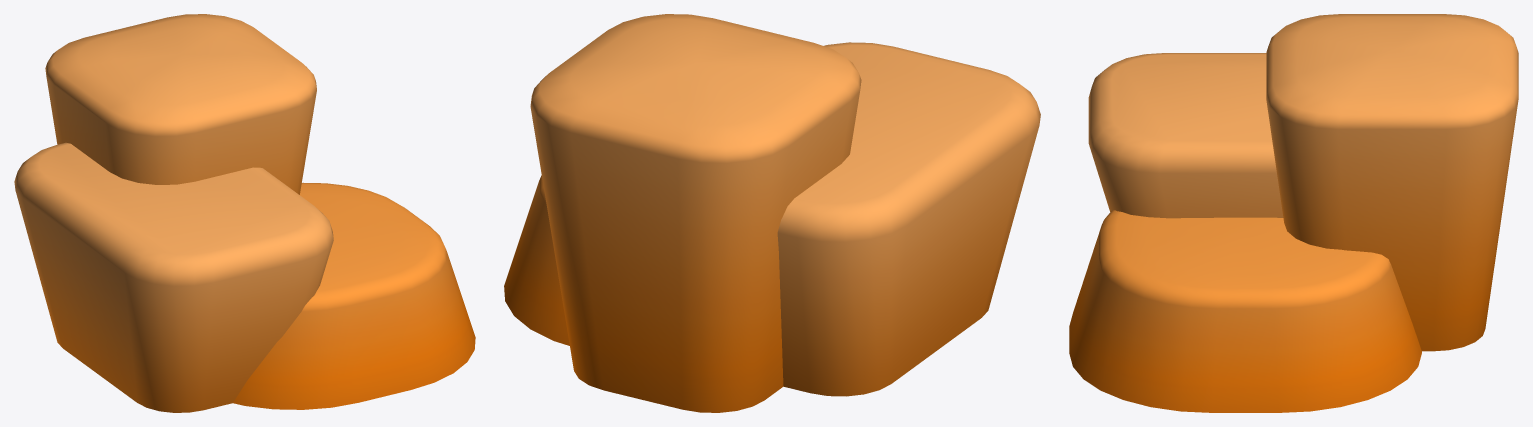
File: Rock_A_05.glb
3 views of the same model, side by side, from view 1: azimuth 30°, elevation 25°; view 2: azimuth 150°, elevation 25°; view 3: azimuth 270°, elevation 25° (orthographic). The views are drawn at different scales.
Visible parts, largest first — view 1: Rock_A_05; view 2: Rock_A_05; view 3: Rock_A_05.
Boxes of the visible parts, x1,y1,x2,y2 form: Rock_A_05: (14, 14, 475, 412); Rock_A_05: (504, 14, 1040, 412); Rock_A_05: (1069, 14, 1518, 412).
Size of the model in its own units: 1.88 by 1.22 by 1.9.
1 material, 1 textured.
